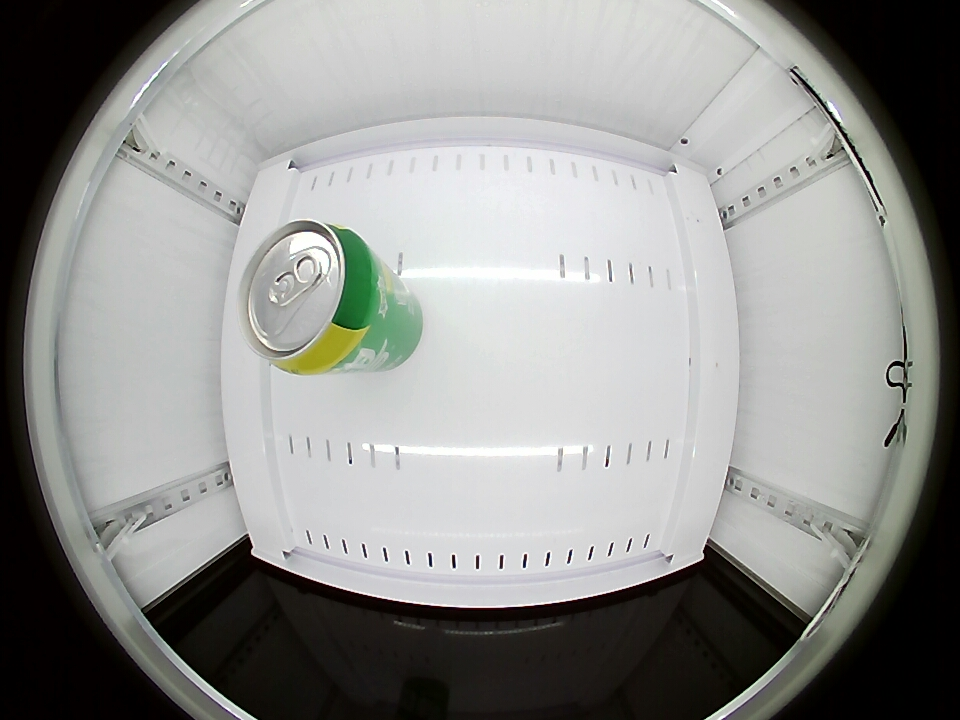xuebi2: (241, 219, 385, 375)
